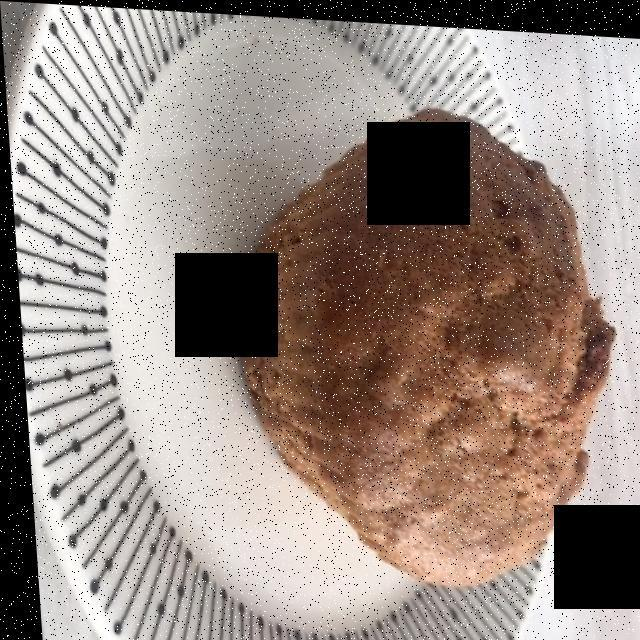muffin: (242, 112, 600, 576)
